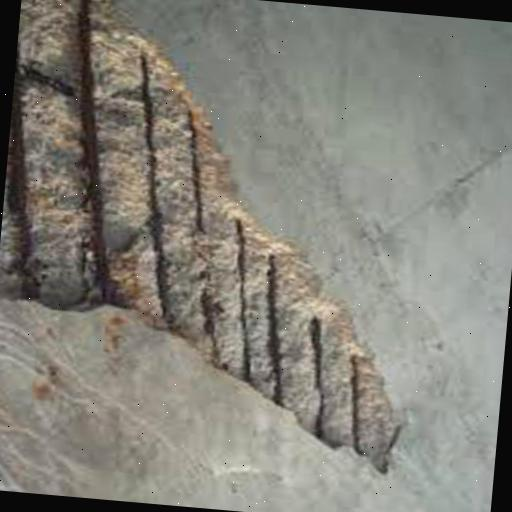spalling: (0, 0, 408, 473)
